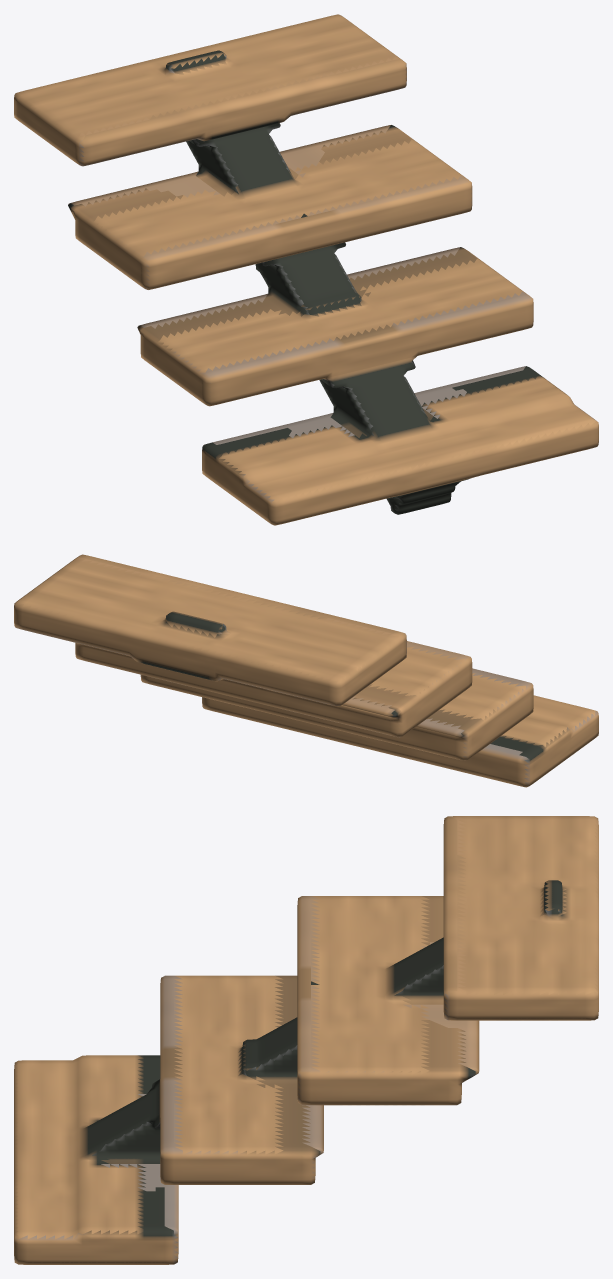
The model's file is stack3.glb.
3 views of the same model, one above another, from view 1: azimuth 30°, elevation 25°; view 2: azimuth 150°, elevation 25°; view 3: azimuth 270°, elevation 25° (orthographic). The views are drawn at different scales.
Bounding box in the file's own units: 0.88 × 0.731 × 1.22.
1 material, 1 textured.
